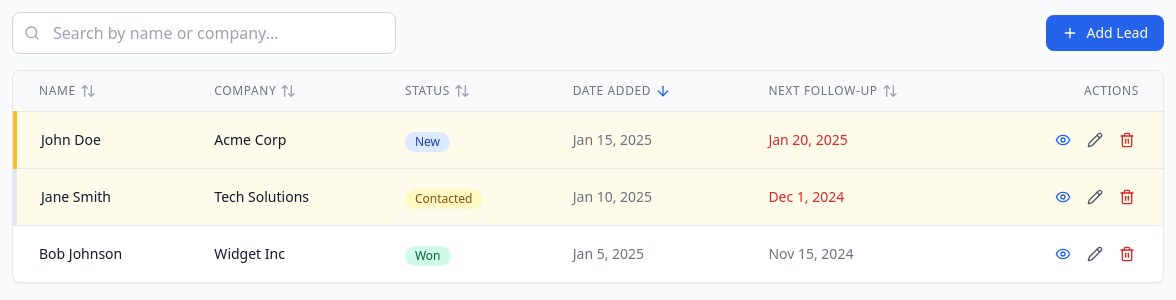
Test: LeadList › Empty States › shows no-results empty state when search returns nothing
The image size is (1176, 300).
# Search for something that doesn't exist
Type "NonExistentCompany" into the field with placeholder "Search by name or company..." at (204, 33), box [12,12,396,54]
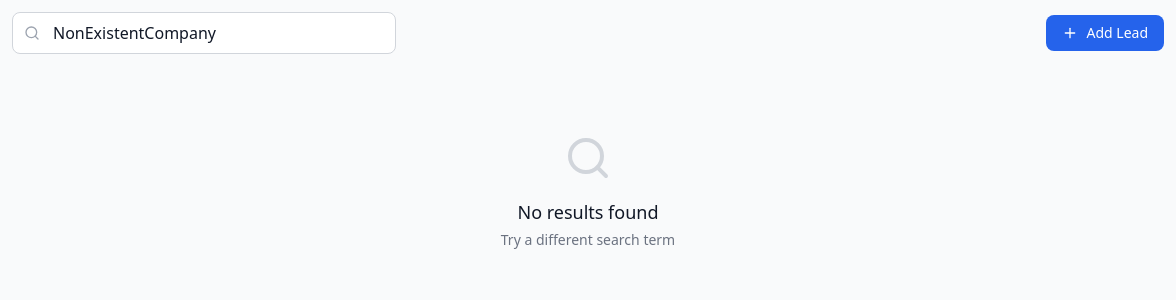
Expected: the heading "No results found" is shown, [518,198,659,226]
Expected: the text "Try a different search term" is shown, [501,230,675,250]
